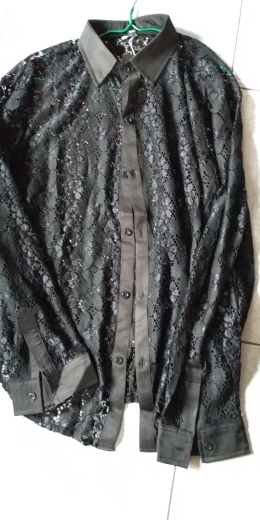shirts: (4, 14, 255, 470)
